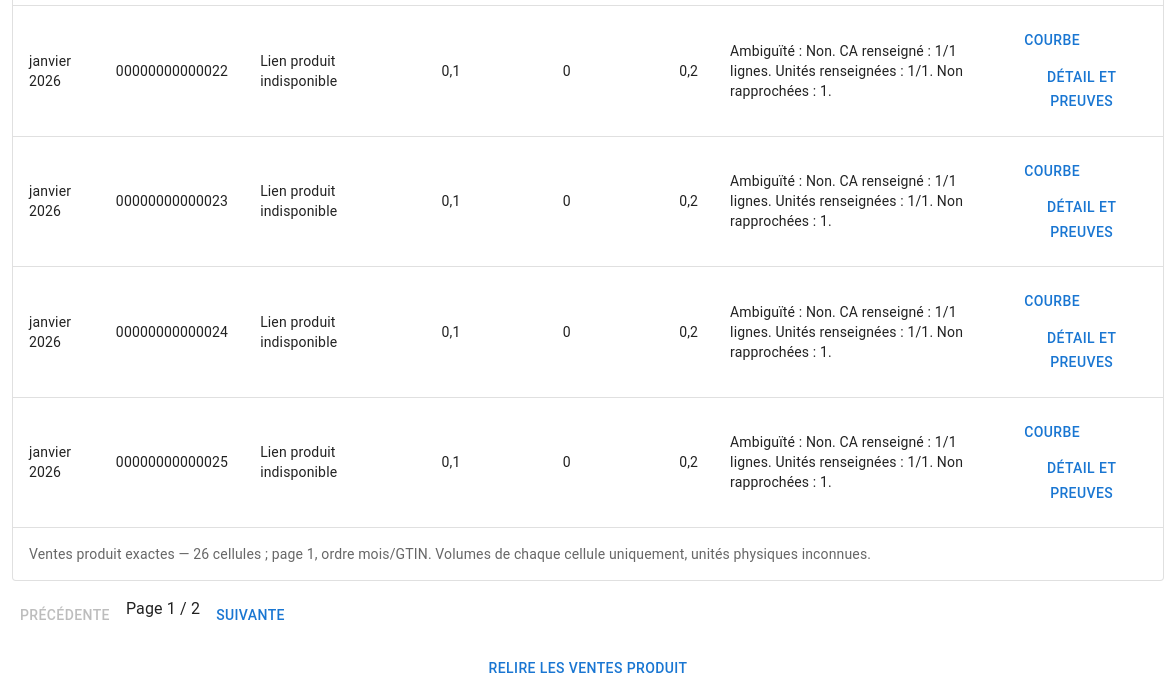
paginates product tables and explicit bar subsets locally without extra reads
(page scrolled)
Click the button with aria-label "Tableau produit : page suivante" at (250, 615), box [208, 597, 293, 634]
(page scrolled)
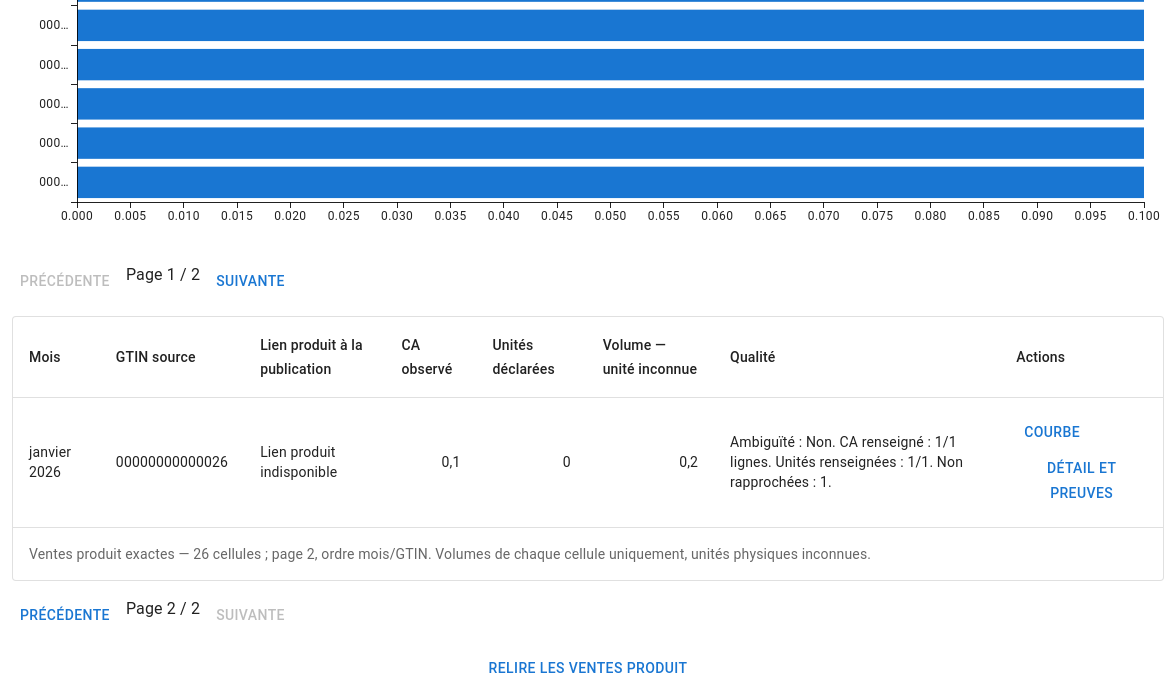
Now the number of rows is 2, box [13, 316, 1163, 397]; [13, 397, 1163, 528]
Now the table shows "00000000000026", box [116, 454, 228, 470]
Click the button with aria-label "Barres : page suivante" at (250, 281), box [208, 263, 293, 300]
(page scrolled)
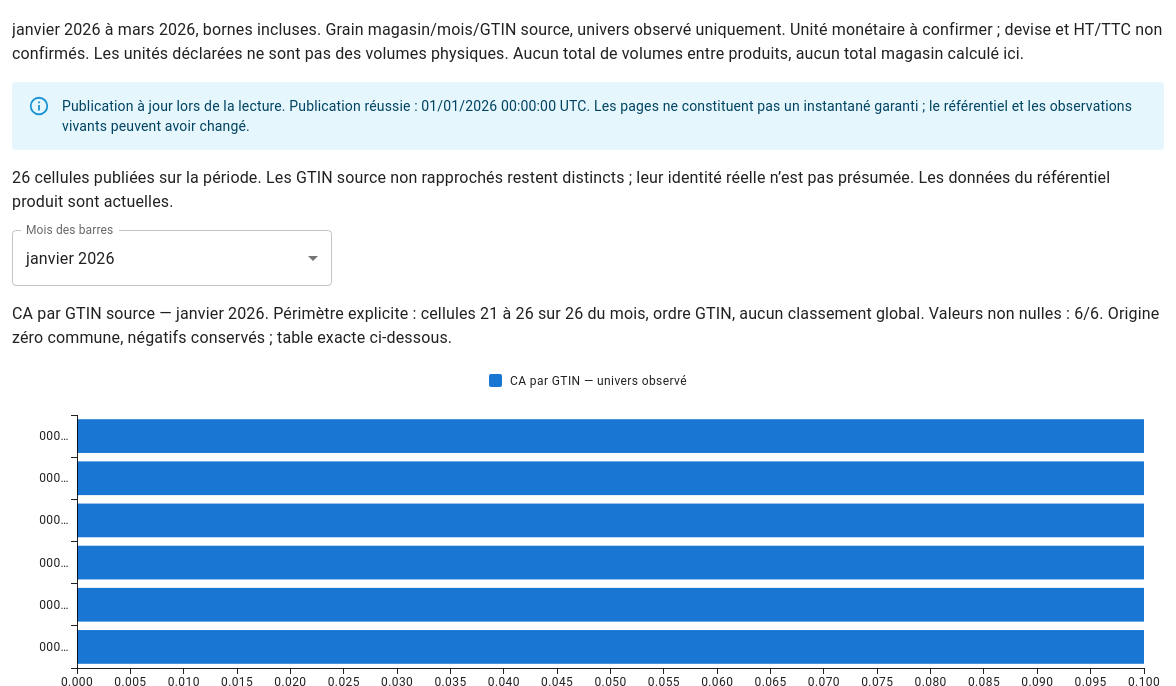
Now the text "cellules 21 à 26 sur 26" is shown, box [12, 302, 1164, 350]
